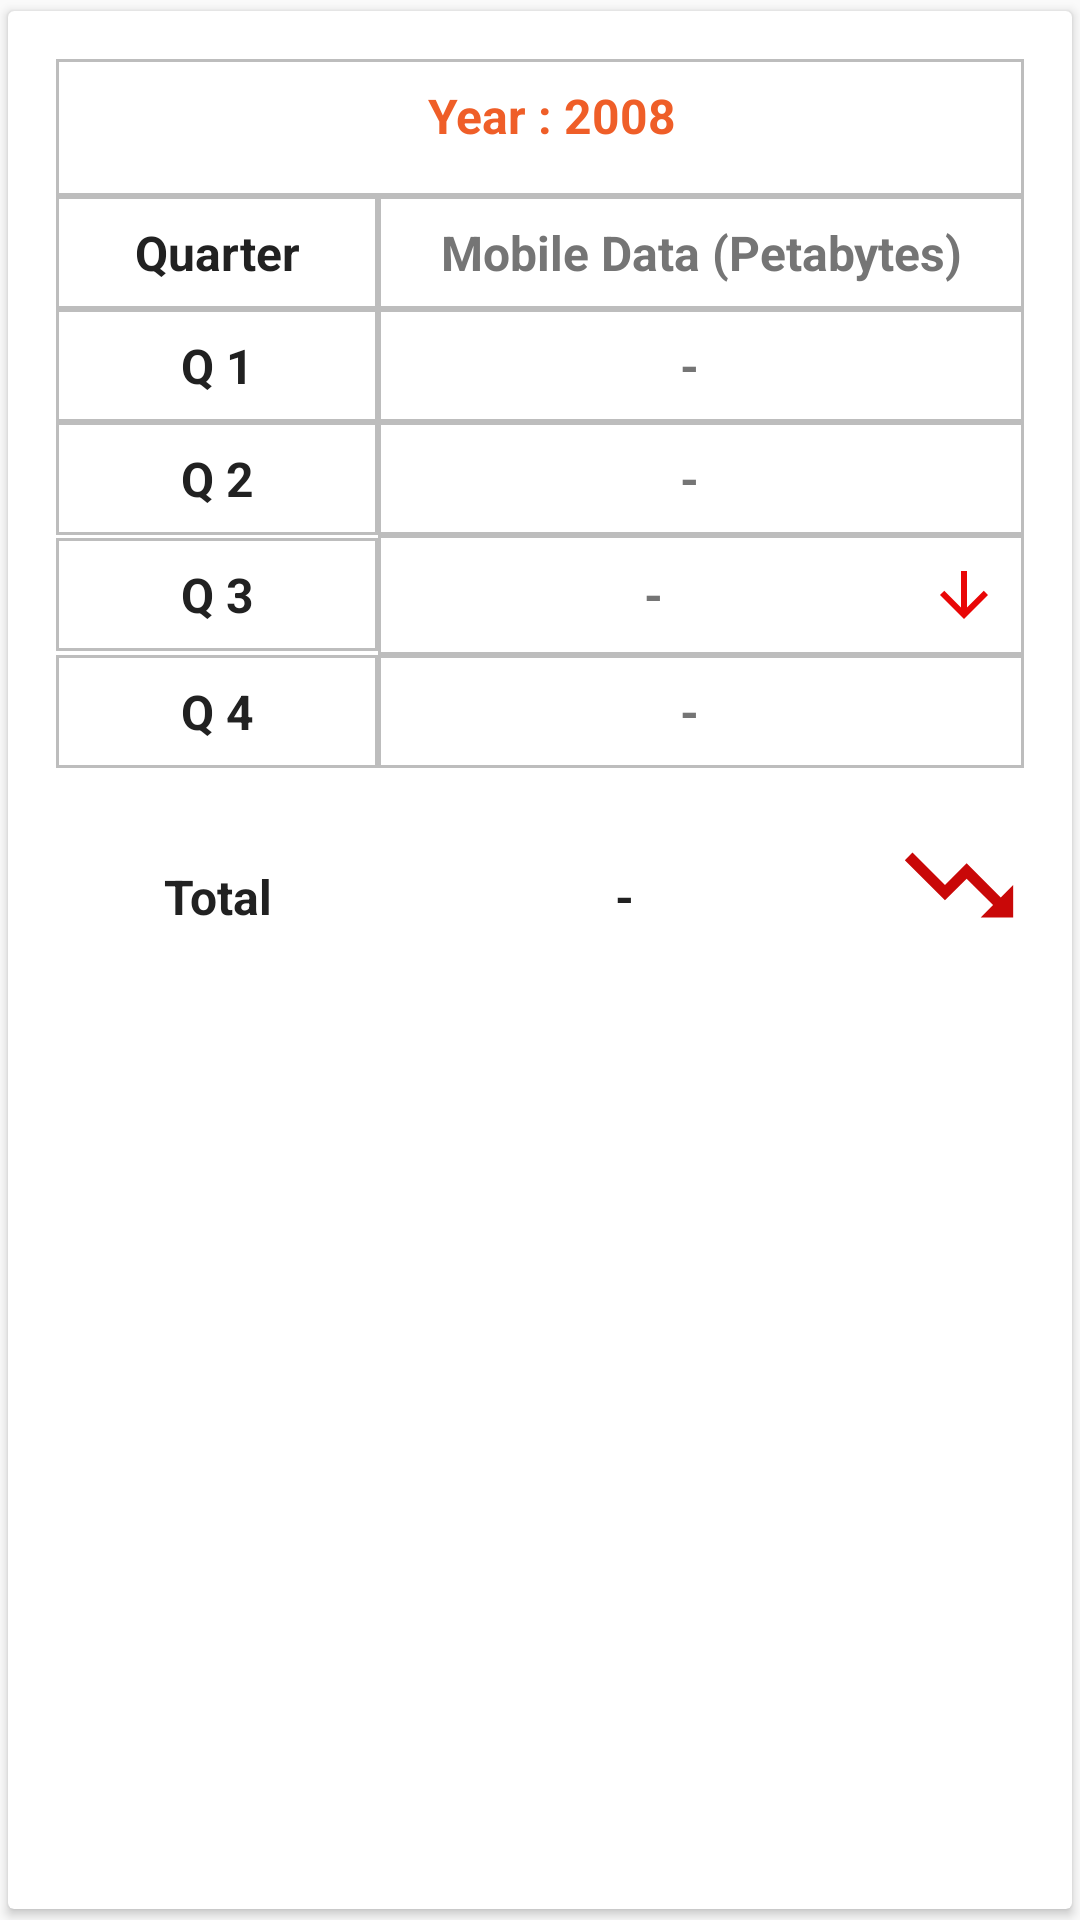

Named icons in this screenshot (1080x1920) and their bounding boxes, detection(x1, y1, x2, y2):
trending down: detection(905, 852, 1014, 918)
